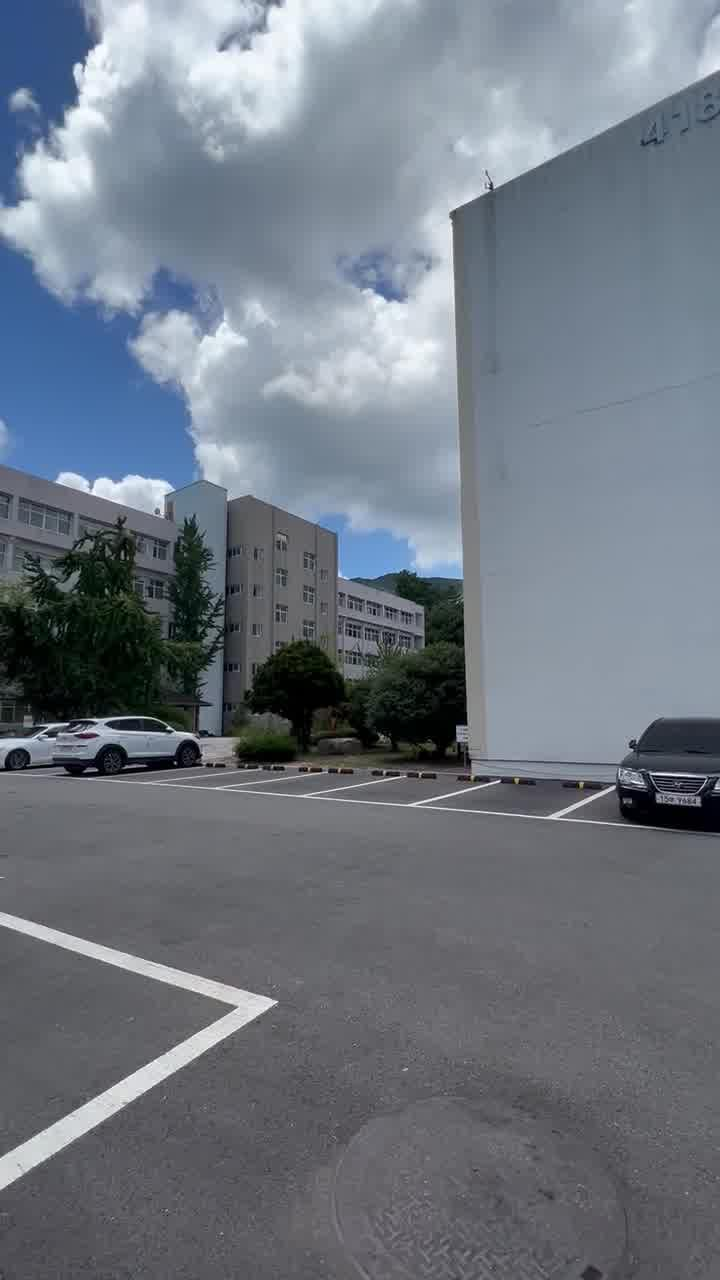building: (16, 476, 426, 680)
